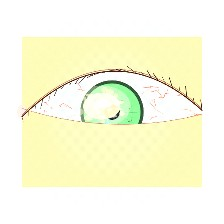corneal_ulcer: (72, 82, 132, 130)
